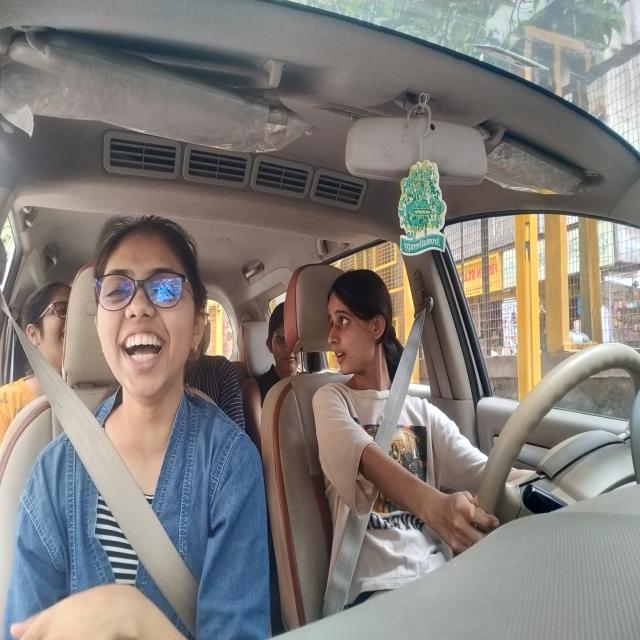LeftRight: (327, 273, 394, 380)
person: (97, 218, 206, 409), (18, 284, 69, 376), (260, 303, 306, 380)
talking: (331, 347, 351, 365)
